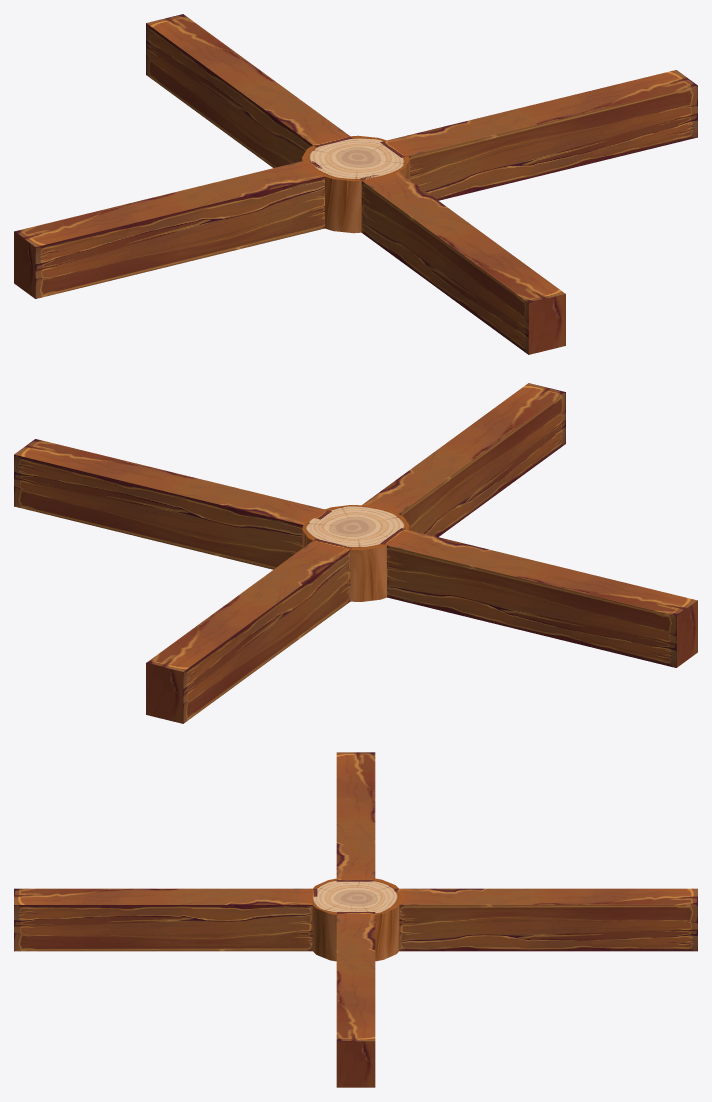
The model's file is four_blade_wood_03.fbx.
The picture shows the model from 3 angles, top to bottom: view 1: azimuth 30°, elevation 25°; view 2: azimuth 150°, elevation 25°; view 3: azimuth 270°, elevation 25°; orthographic projection. The views are drawn at different scales.
Visible parts, largest first — view 1: Blade_38, Blade_37, Blade_36, Blade_35, wood_center_9; view 2: Blade_38, Blade_37, Blade_35, Blade_36, wood_center_9; view 3: Blade_36, Blade_35, Blade_37, Blade_38, wood_center_9.
Boxes of the visible parts, x1,y1,x2,y2 form: Blade_38: (14, 161, 328, 298); Blade_37: (380, 70, 697, 200); Blade_36: (359, 172, 565, 354); Blade_35: (146, 14, 352, 167); wood_center_9: (302, 135, 409, 233); Blade_38: (380, 528, 697, 667); Blade_37: (14, 439, 331, 569); Blade_35: (146, 539, 351, 723); Blade_36: (362, 383, 565, 536); wood_center_9: (302, 505, 409, 601); Blade_36: (14, 888, 317, 951); Blade_35: (394, 888, 697, 951); Blade_37: (336, 912, 375, 1087); Blade_38: (336, 752, 375, 881); wood_center_9: (308, 878, 403, 961).
Size of the model in its own units: 534 by 40 by 534.
